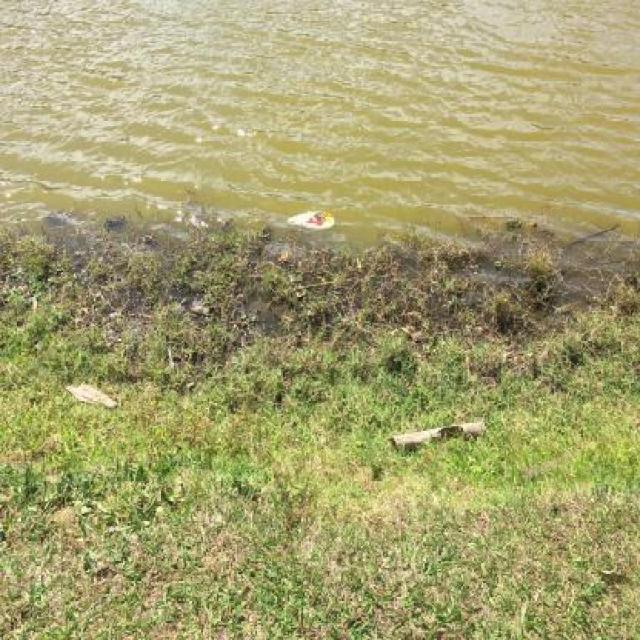other: (389, 420, 488, 451), (65, 382, 118, 408)
plastic: (286, 211, 336, 229)
